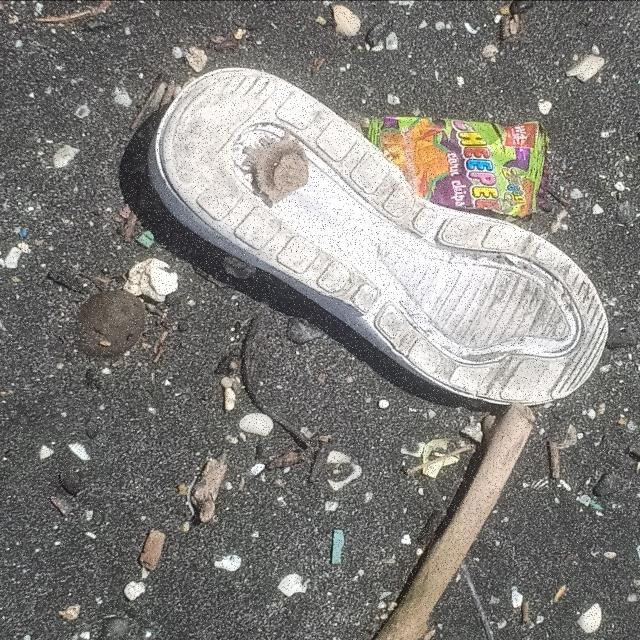plastic_waste: (367, 115, 555, 219)
rubber_waste: (145, 65, 611, 409)
